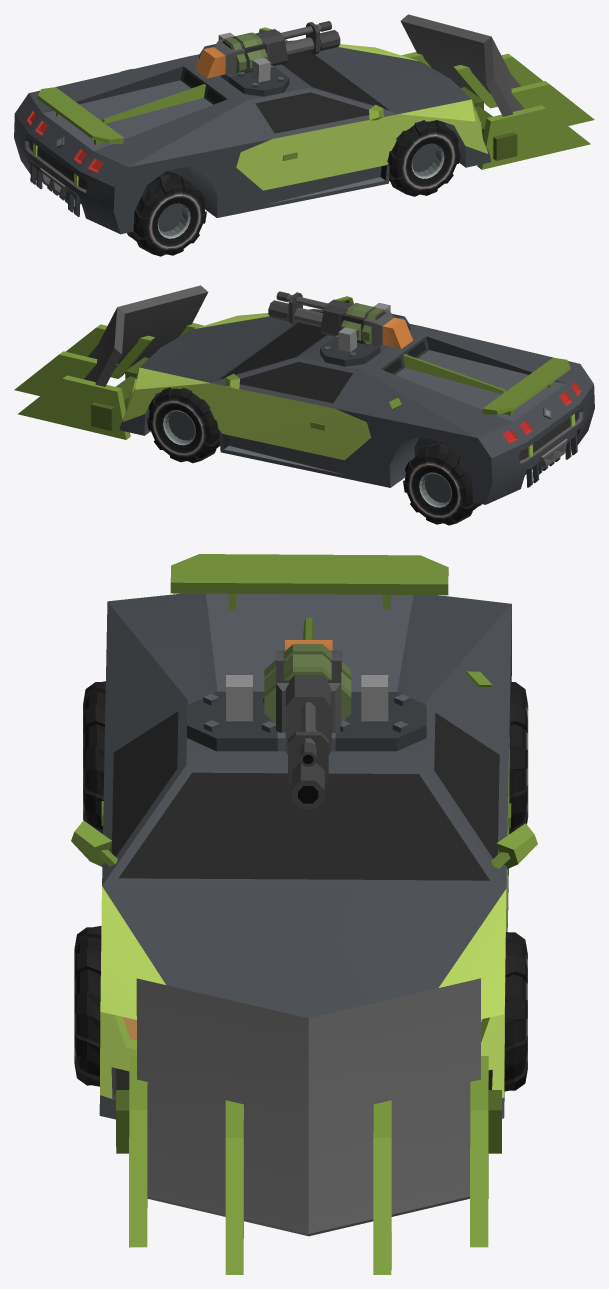
File: car 1_1 .fbx
3 views of the same model, one above another, from view 1: azimuth 30°, elevation 25°; view 2: azimuth 150°, elevation 25°; view 3: azimuth 270°, elevation 25° (orthographic). The views are drawn at different scales.
Parts seen in each view (by area): view 1: Car.001_Circle.000_Car_0, Wheel_FR_5_Eagle_0.010, gun, Wheel_FR_5_Eagle_0.009; view 2: Car.001_Circle.000_Car_0, Wheel_FR_5_Eagle_0.012, gun, Wheel_FR_5_Eagle_0.011; view 3: Car.001_Circle.000_Car_0, gun, Wheel_FR_5_Eagle_0.009, Wheel_FR_5_Eagle_0.011, Wheel_FR_5_Eagle_0.010, Wheel_FR_5_Eagle_0.012.
Part boxes in pixels (x1,y1,x2,y2): Car.001_Circle.000_Car_0: [14, 14, 594, 234]; Wheel_FR_5_Eagle_0.010: [127, 171, 206, 256]; gun: [195, 21, 340, 78]; Wheel_FR_5_Eagle_0.009: [387, 120, 460, 196]; Car.001_Circle.000_Car_0: [14, 285, 594, 504]; Wheel_FR_5_Eagle_0.012: [403, 441, 481, 525]; gun: [268, 291, 412, 348]; Wheel_FR_5_Eagle_0.011: [147, 387, 219, 463]; Car.001_Circle.000_Car_0: [71, 554, 537, 1274]; gun: [261, 640, 351, 809]; Wheel_FR_5_Eagle_0.009: [74, 926, 101, 1086]; Wheel_FR_5_Eagle_0.011: [504, 932, 527, 1091]; Wheel_FR_5_Eagle_0.010: [83, 681, 105, 833]; Wheel_FR_5_Eagle_0.012: [509, 682, 528, 833].
Size of the model in its own units: 653 by 179 by 253.
Materials: 5 (5 with a texture image).
